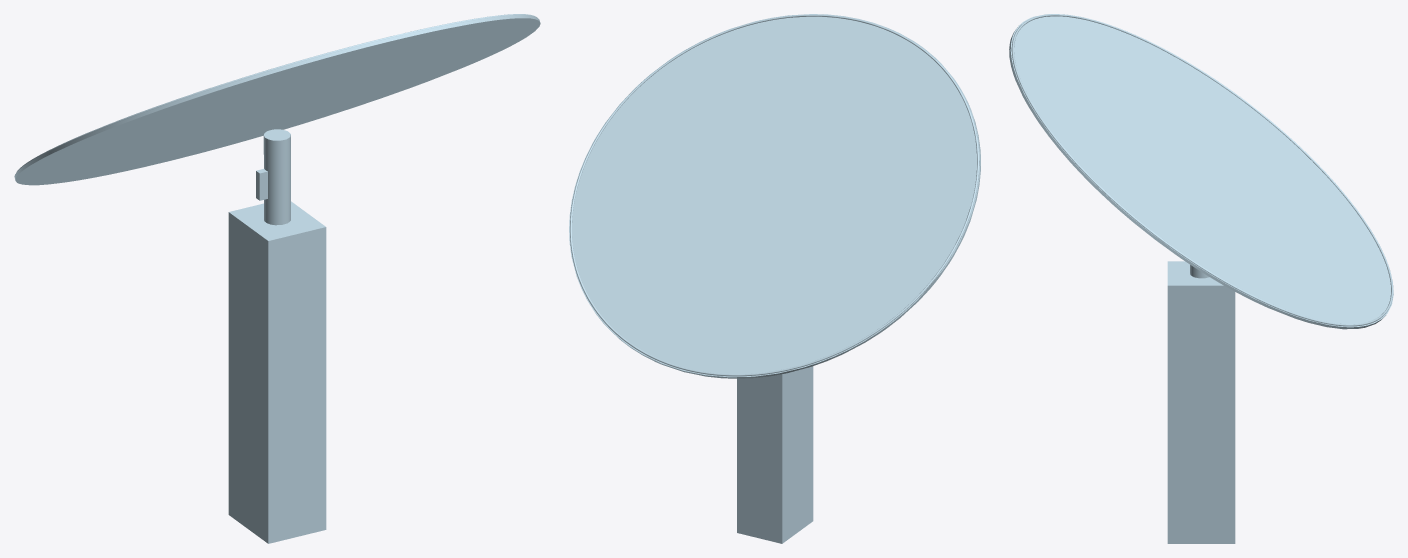
The model's file is pod_assembly_lod1.glb.
The picture shows the model from 3 angles, left to right: view 1: azimuth 30°, elevation 25°; view 2: azimuth 150°, elevation 25°; view 3: azimuth 270°, elevation 25°; orthographic projection. The views are drawn at different scales.
Visible parts, largest first — view 1: Pod container, Solar disc, Hatch column, Solar rim; view 2: Solar disc, Pod container, Solar rim; view 3: Solar disc, Pod container, Solar rim.
Boxes of the visible parts, x1,y1,x2,y2 form: Pod container: (228,201,326,543); Solar disc: (14,15,540,185); Hatch column: (263,129,290,225); Solar rim: (16,14,534,172); Solar disc: (569,14,980,378); Pod container: (737,366,813,543); Solar rim: (570,14,979,376); Solar disc: (1009,14,1393,329); Pod container: (1167,261,1235,543); Solar rim: (1011,14,1393,326).
Size of the model in its own units: 19.99 by 22.79 by 16.45.
